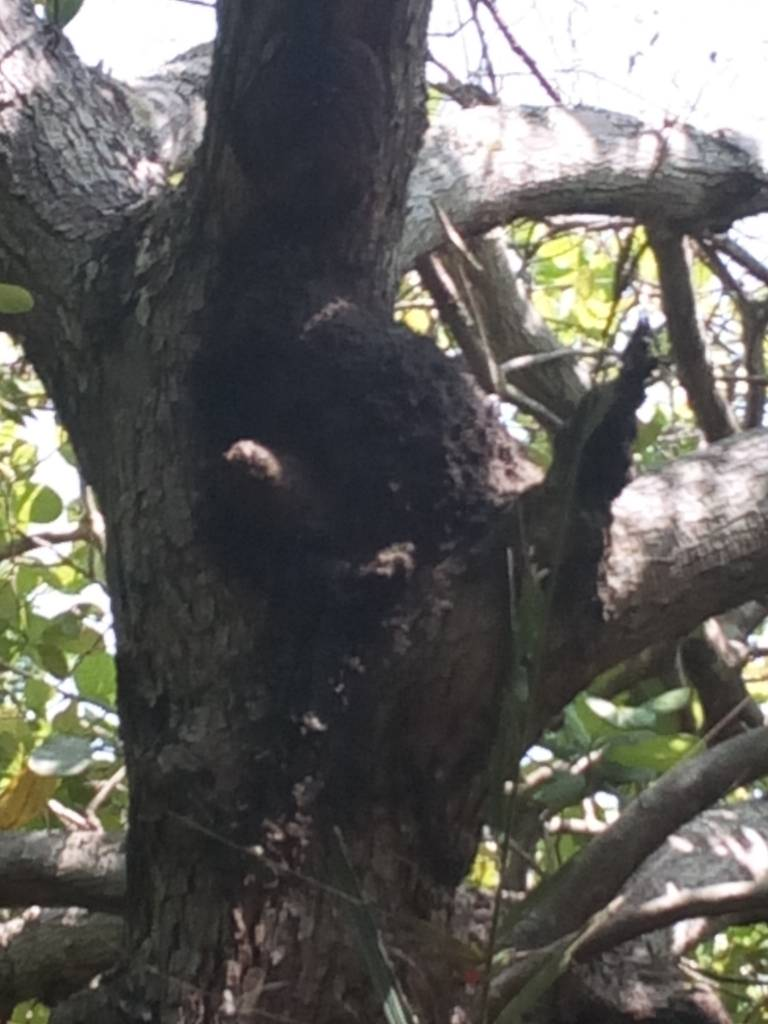Termites: (196, 258, 490, 672)
